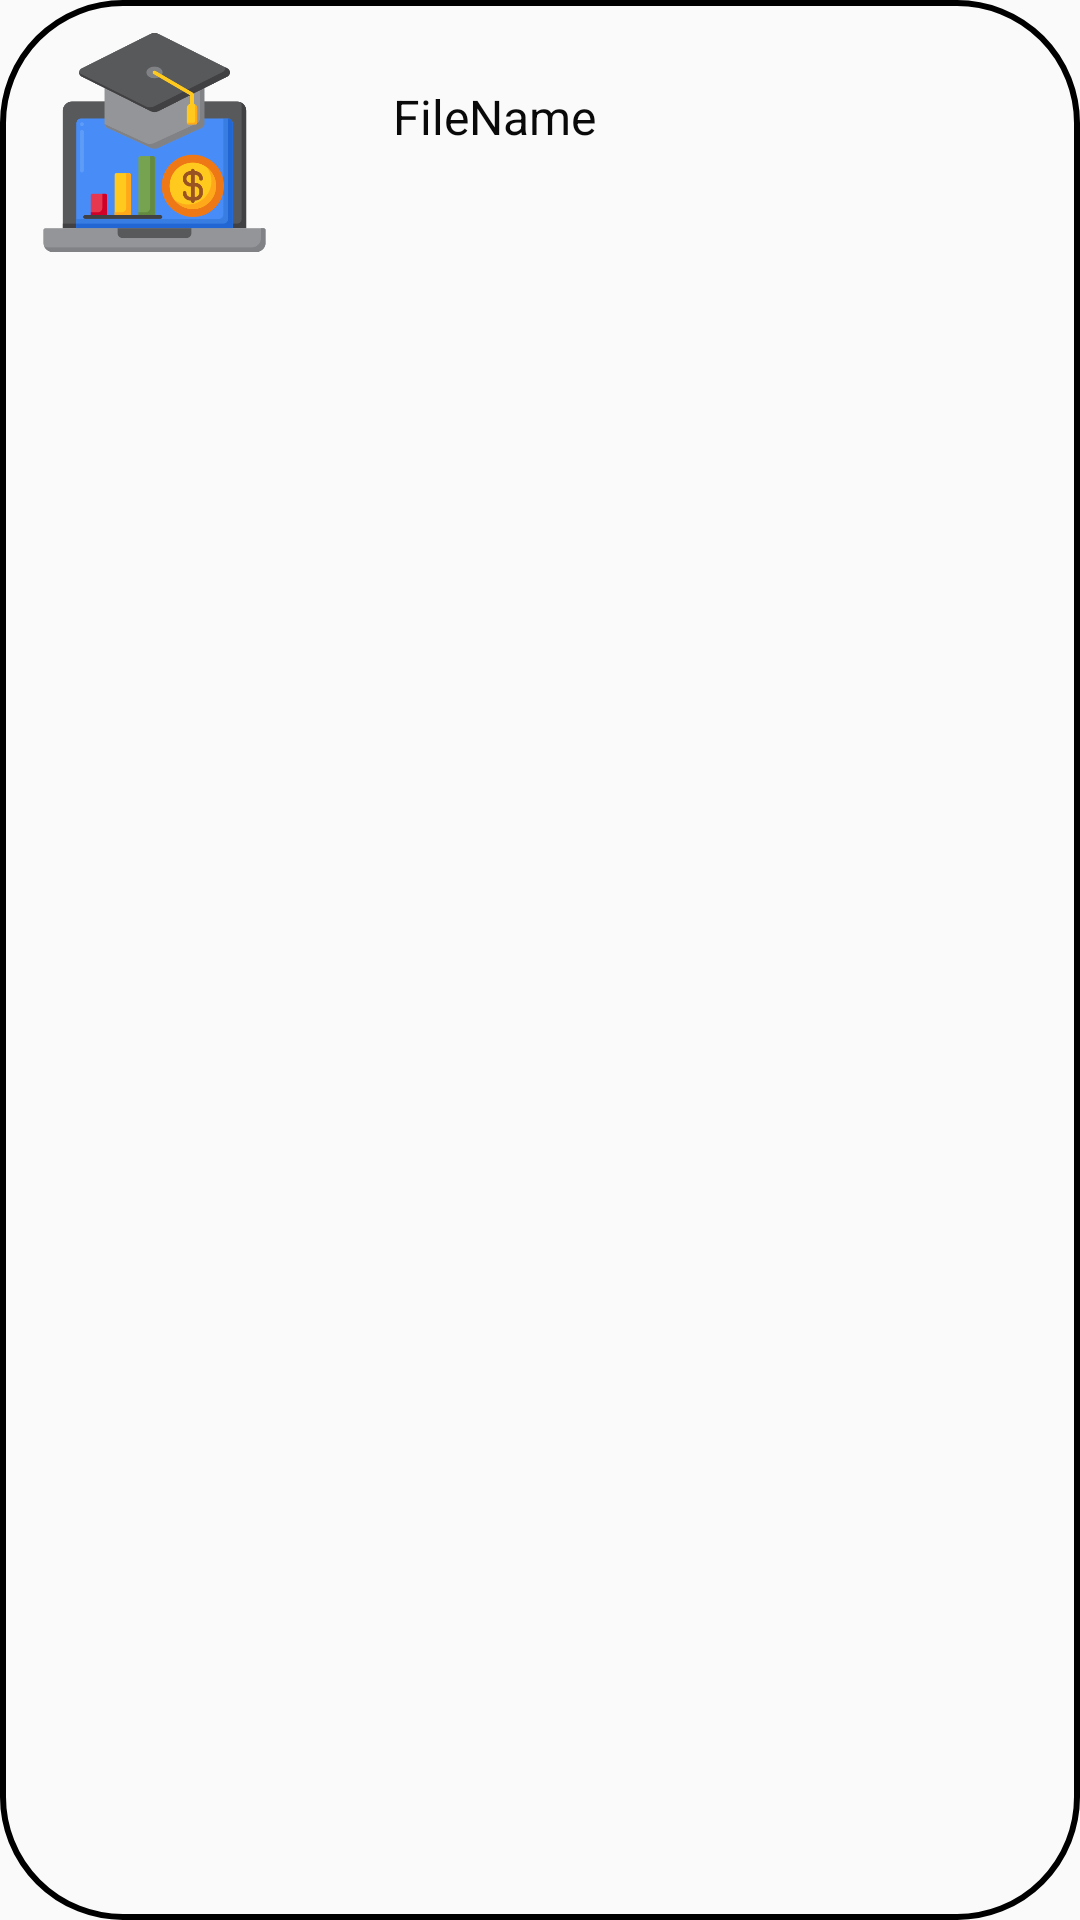

Named icons in this screenshot (1080w x 1920h) and their centers, (x,y):
online course: (154,142)
